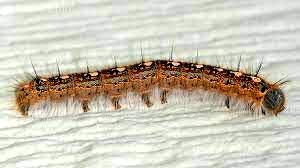Caterpillar: (16, 60, 288, 118)
